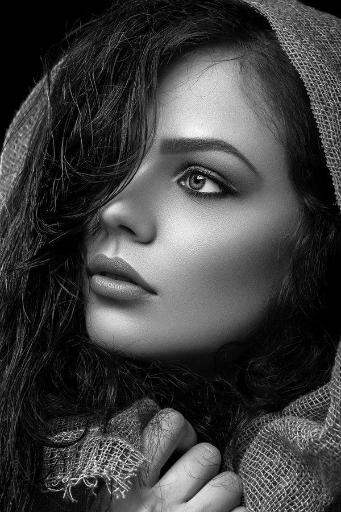left_eye: (175, 170, 239, 210)
left_lip_corner: (144, 274, 164, 308)
